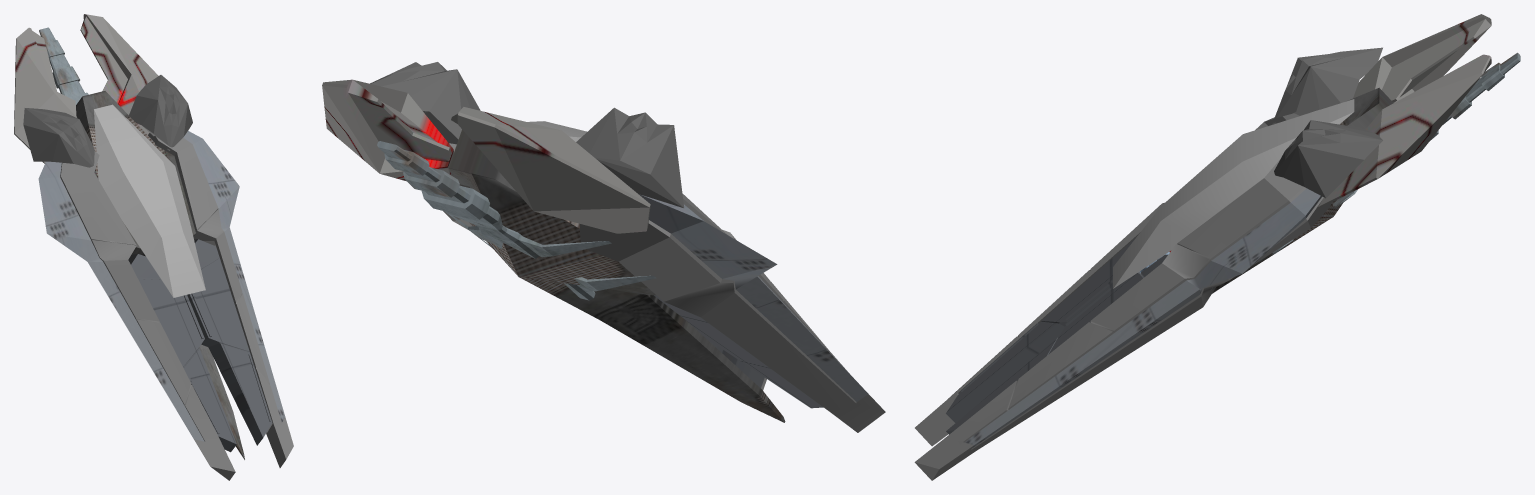
Rendered from wingclose (1).fbx.
3 renders of one model, left to right at view 1: azimuth 30°, elevation 25°; view 2: azimuth 150°, elevation 25°; view 3: azimuth 270°, elevation 25°, orthographic. The views are drawn at different scales.
Parts seen in each view (by area): view 1: polySurface3355, polySurface3360; view 2: polySurface3355; view 3: polySurface3355, polySurface3360.
Part boxes in pixels (x1,y1,x2,y2): polySurface3355: [14, 14, 293, 480]; polySurface3360: [94, 104, 205, 297]; polySurface3355: [322, 62, 885, 432]; polySurface3355: [914, 14, 1520, 480]; polySurface3360: [1113, 99, 1354, 288].
Size of the model in its own units: 3.97 by 6.06 by 7.75.
